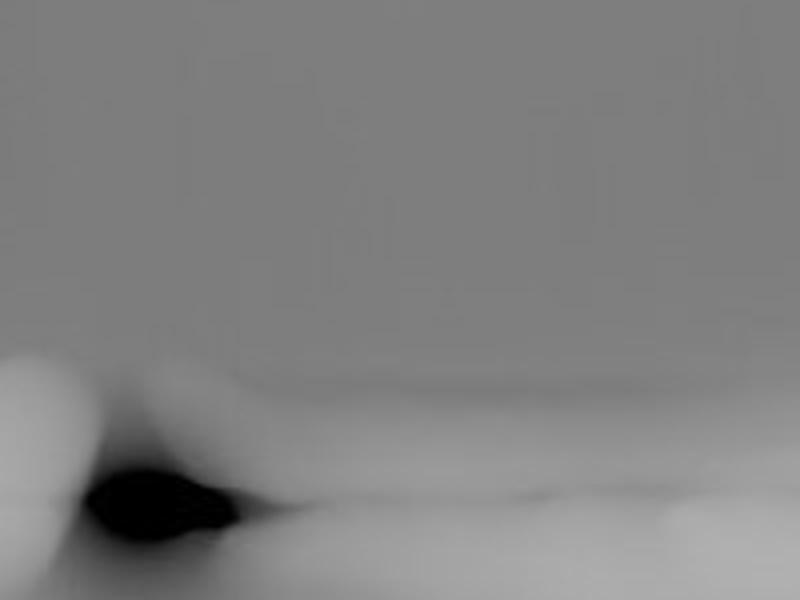defect: (83, 465, 243, 543)
